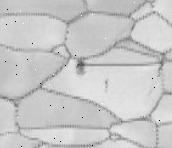good_void: (74, 61, 88, 77), (103, 78, 109, 93)
